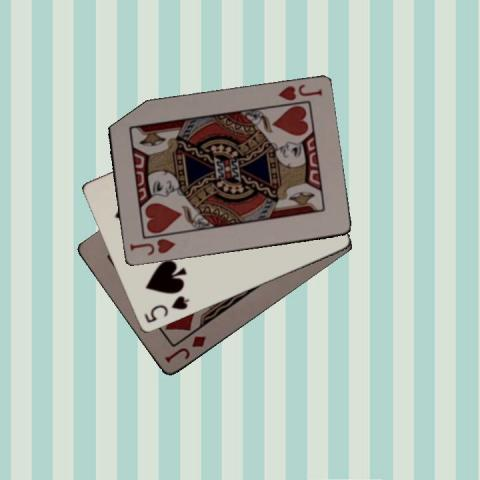5s: (140, 292, 190, 324)
Jd: (162, 332, 208, 364)
Jh: (275, 81, 323, 103), (126, 236, 176, 257)
